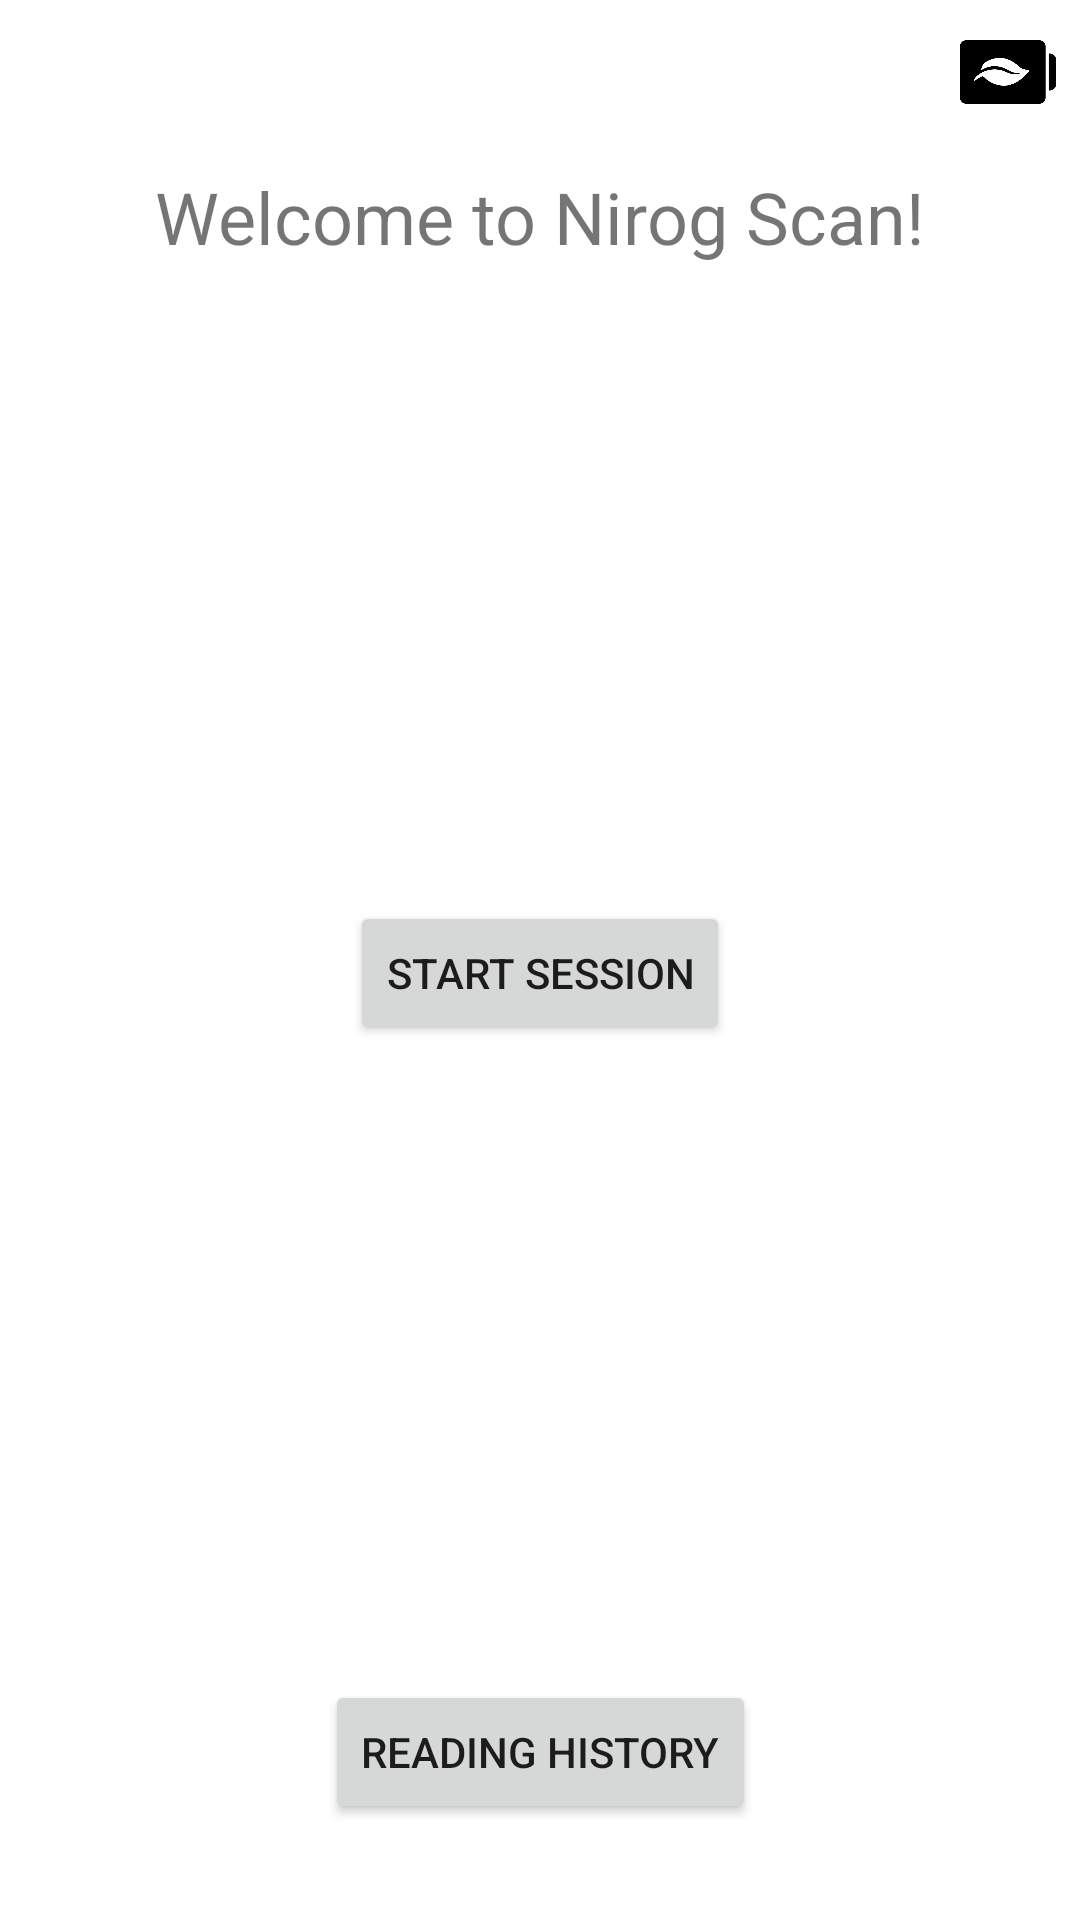

Icons on this 1080×1920 Android screen, each with its box as bbox=(x1, y1, x2, y2):
battery: bbox=(960, 40, 1056, 104)
